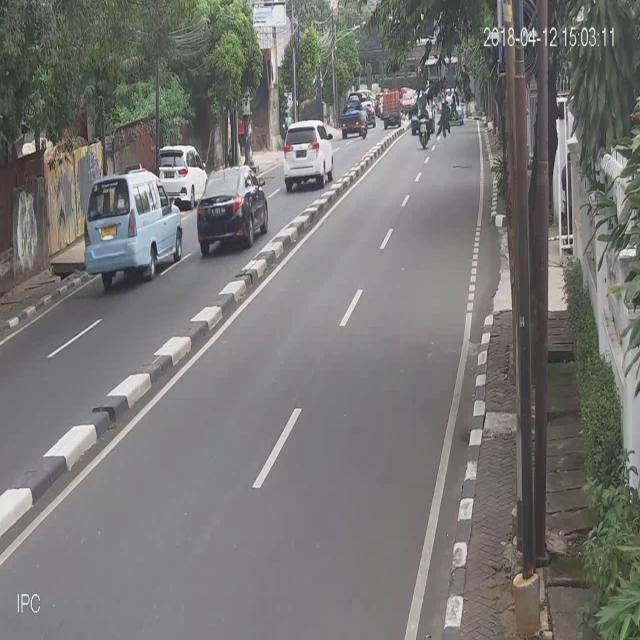motorcycle: (82, 167, 184, 288), (195, 166, 268, 252), (283, 118, 333, 195)
